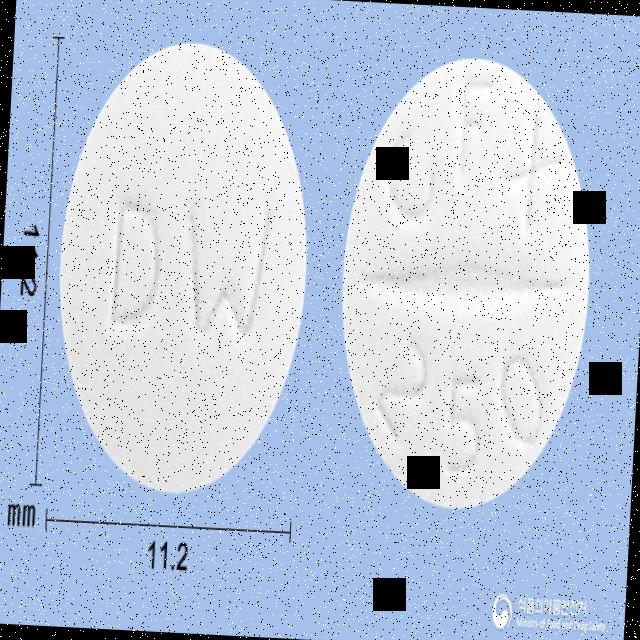Ciplus: (44, 31, 324, 508), (330, 44, 604, 518)
